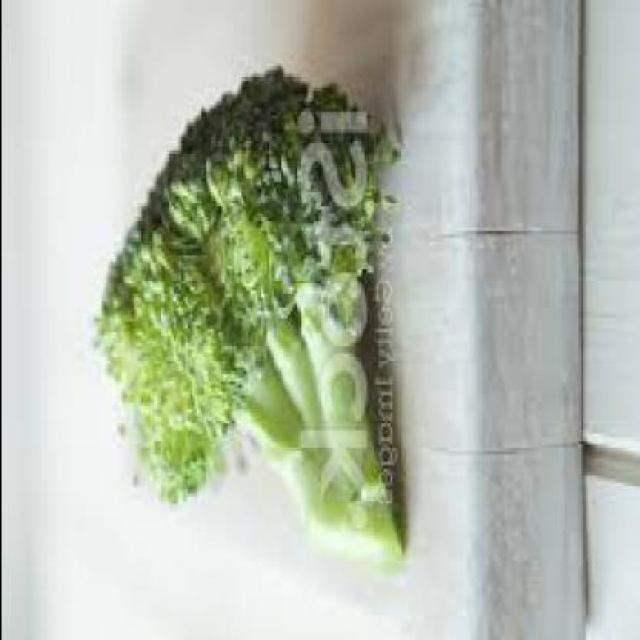BIODEGRADABLE: (89, 63, 400, 560)
